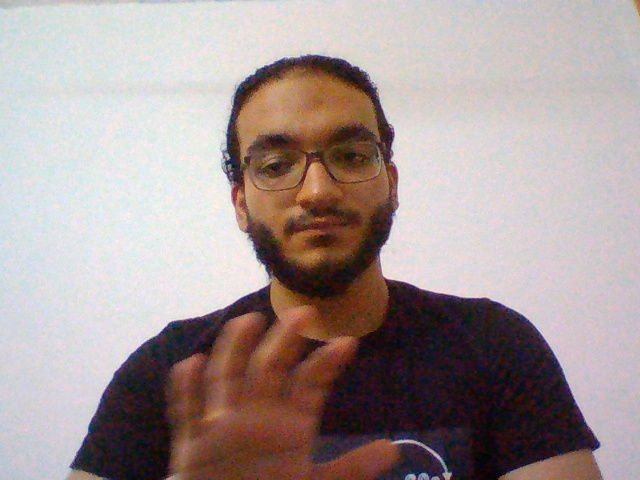Hello: (150, 276, 400, 480)
